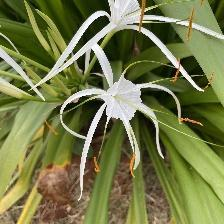spider lily: (88, 66, 163, 143)
